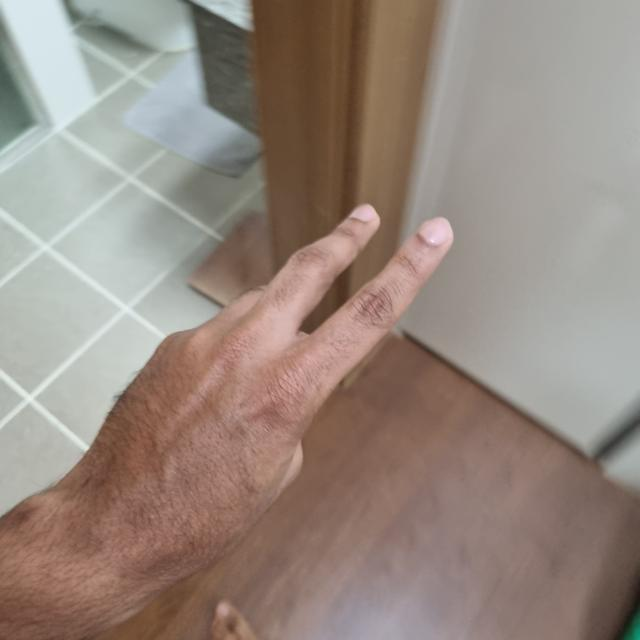Scissors: (53, 206, 449, 578)
